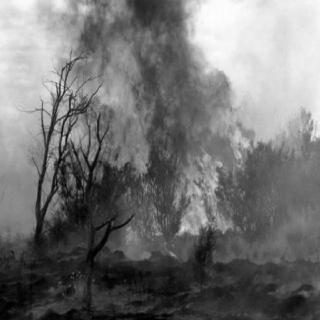Fire: (67, 4, 249, 234)
